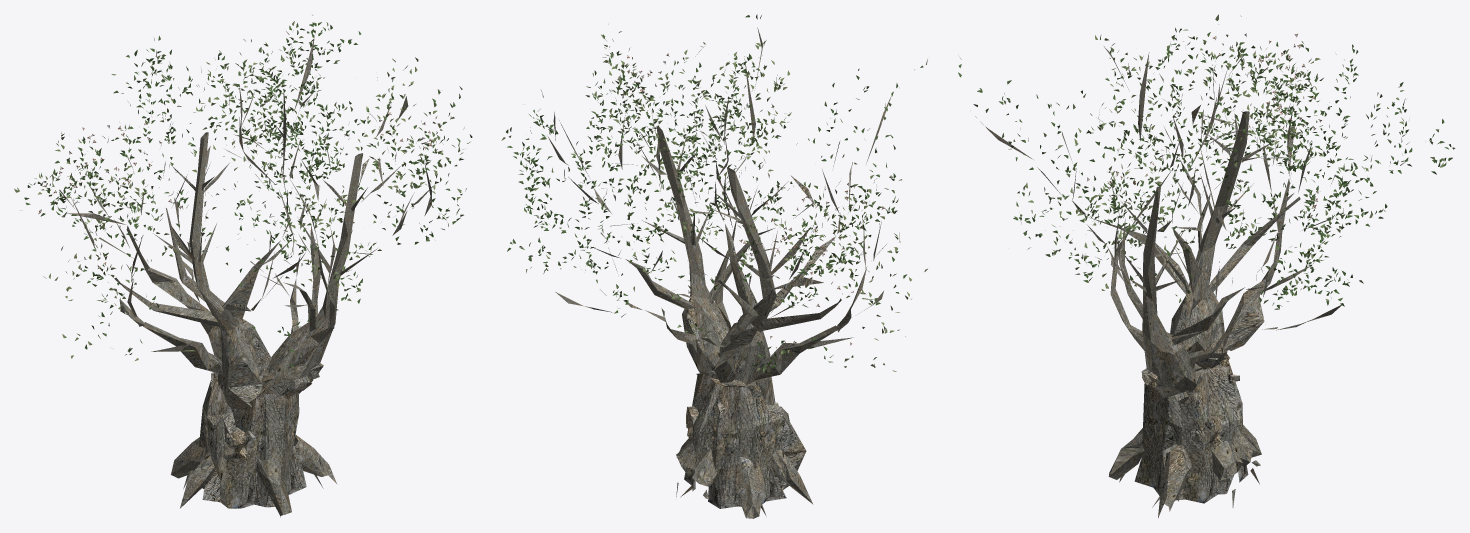
Rendered from tree-olive-lo.glb.
3 renders of one model, left to right at view 1: azimuth 30°, elevation 25°; view 2: azimuth 150°, elevation 25°; view 3: azimuth 270°, elevation 25°, orthographic. The views are drawn at different scales.
Visible parts, largest first — view 1: Object_5, Object_7, Object_10; view 2: Object_5, Object_7, Object_10; view 3: Object_5, Object_7.
Boxes of the visible parts, left/top/right/bottom form: Object_5: left=59, top=31, right=461, bottom=517; Object_7: left=14, top=15, right=472, bottom=367; Object_10: left=19, top=112, right=451, bottom=326; Object_5: left=527, top=27, right=927, bottom=518; Object_7: left=501, top=14, right=927, bottom=389; Object_10: left=605, top=53, right=885, bottom=356; Object_5: left=960, top=15, right=1407, bottom=517; Object_7: left=958, top=14, right=1455, bottom=309.
Bounding box in the file's own units: 10.18 × 11.42 × 11.05.
Materials: 3 (3 with a texture image).
